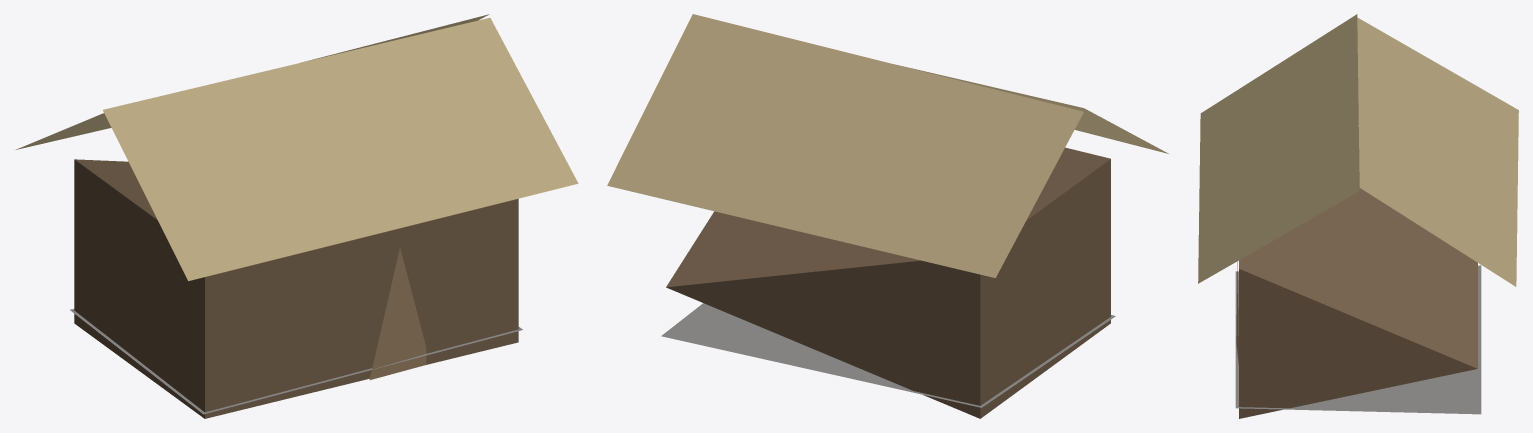
File: house_b_lod.glb
3 views of the same model, side by side, from view 1: azimuth 30°, elevation 25°; view 2: azimuth 150°, elevation 25°; view 3: azimuth 270°, elevation 25° (orthographic). The views are drawn at different scales.
Parts seen in each view (by area): view 1: house_b_lod; view 2: house_b_lod; view 3: house_b_lod.
Part boxes in pixels (x1,y1,x2,y2): house_b_lod: (16, 14, 578, 418); house_b_lod: (607, 14, 1168, 418); house_b_lod: (1198, 14, 1518, 418).
Bounding box in the file's own units: 6.2 × 4.13 × 4.84.
